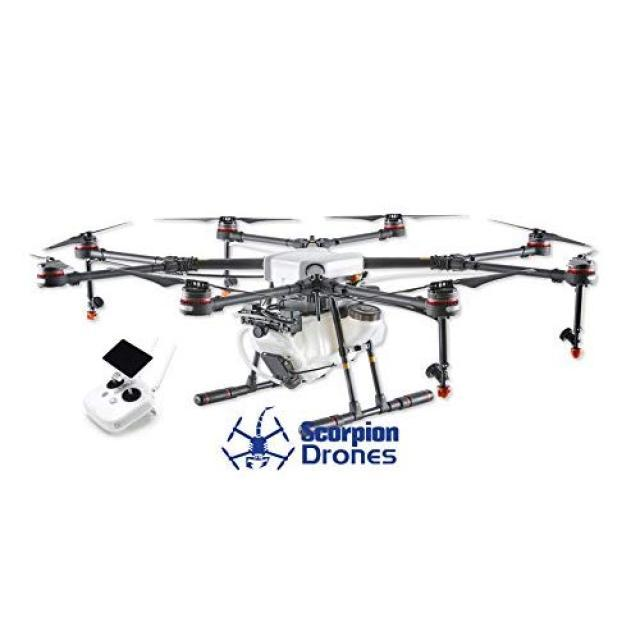drones: (11, 196, 640, 442)
